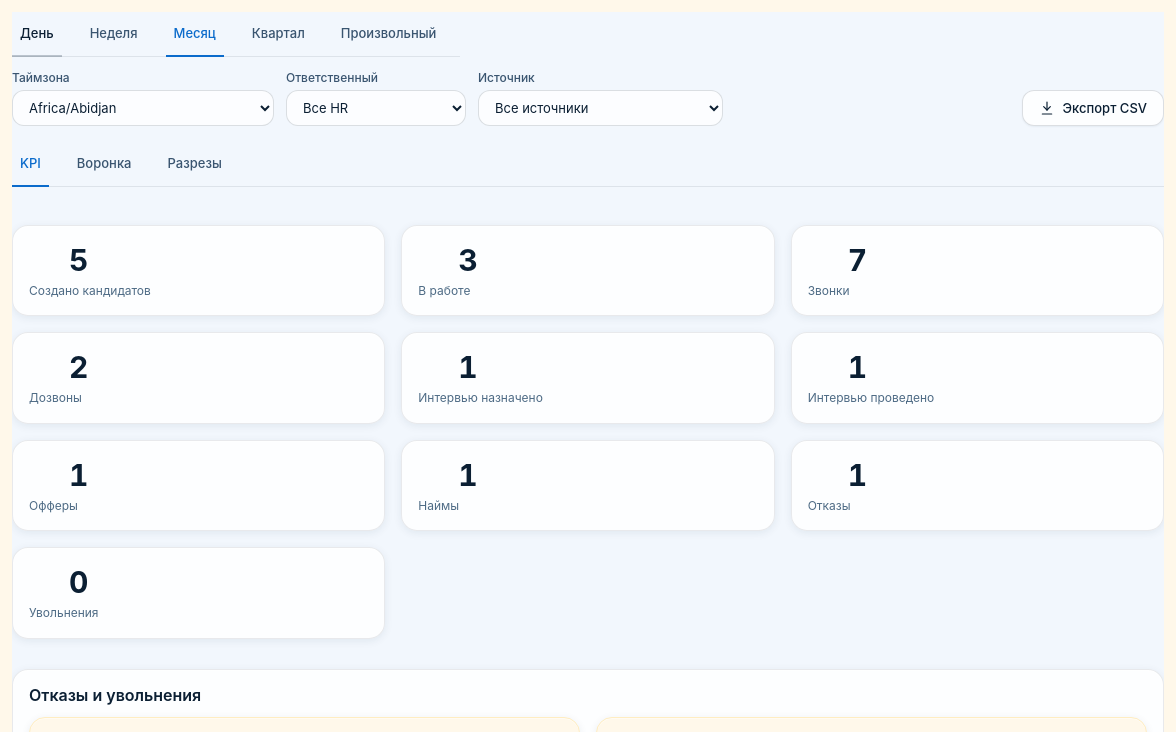
Scenario: AnalyticsPage › exports only after a successful response and shows a success toast
The image size is (1176, 732).
Expected: the text "Создано кандидатов" is shown, [29,283,151,298]
Click the button "Экспорт CSV" at point(1093, 108), box [1022,90,1164,126]
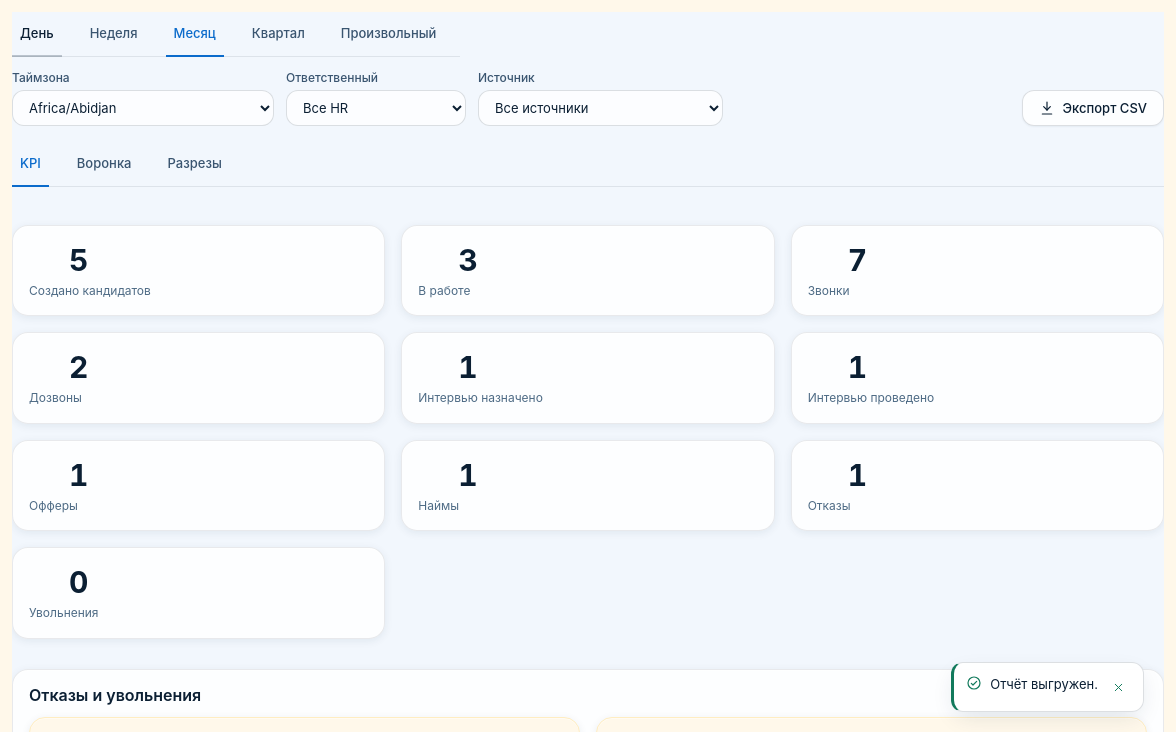
Now the text "Отчёт выгружен." is shown, box [990,675,1098,694]
